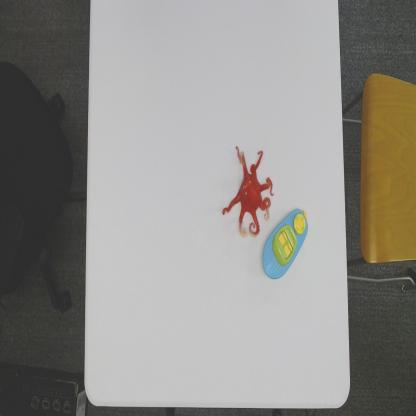Boat: (261, 207, 308, 281)
Octopus: (222, 145, 274, 238)
